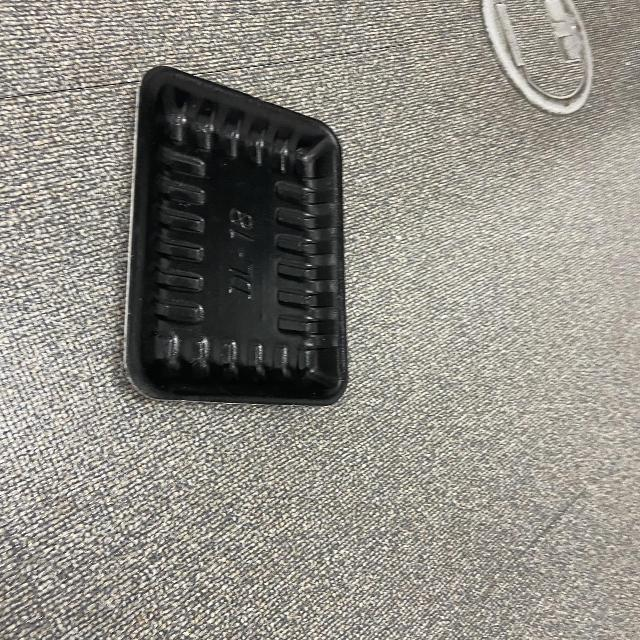Plastico descartable: (125, 67, 349, 405)
